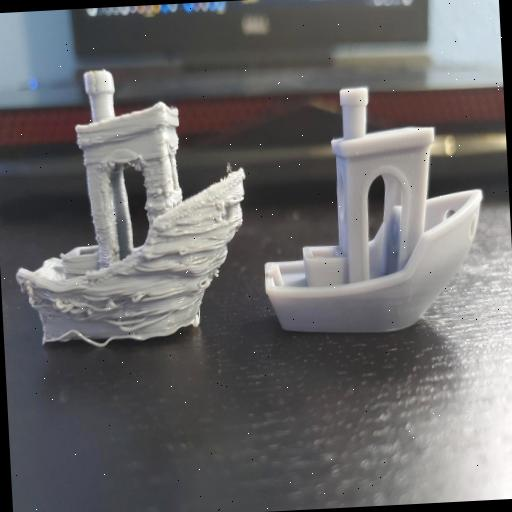blobs: (26, 274, 200, 348), (162, 172, 251, 258)
